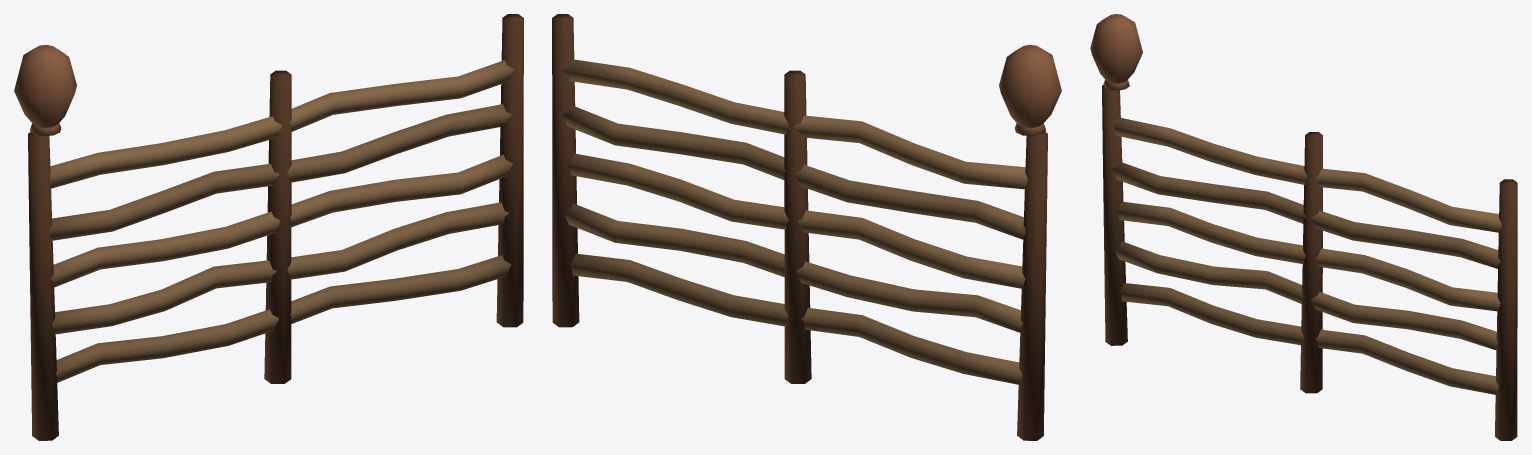
File: tyn.glb
3 renders of one model, left to right at view 1: azimuth 30°, elevation 25°; view 2: azimuth 150°, elevation 25°; view 3: azimuth 330°, elevation 25°, orthographic. The views are drawn at different scales.
Parts seen in each view (by area): view 1: tyn; view 2: tyn; view 3: tyn.
Boxes of the visible parts, x1=… form: tyn: x1=14, y1=14, x2=523, y2=440; tyn: x1=552, y1=14, x2=1061, y2=440; tyn: x1=1090, y1=14, x2=1517, y2=440.
Bounding box in the file's own units: 2.16 × 1.59 × 0.24.
